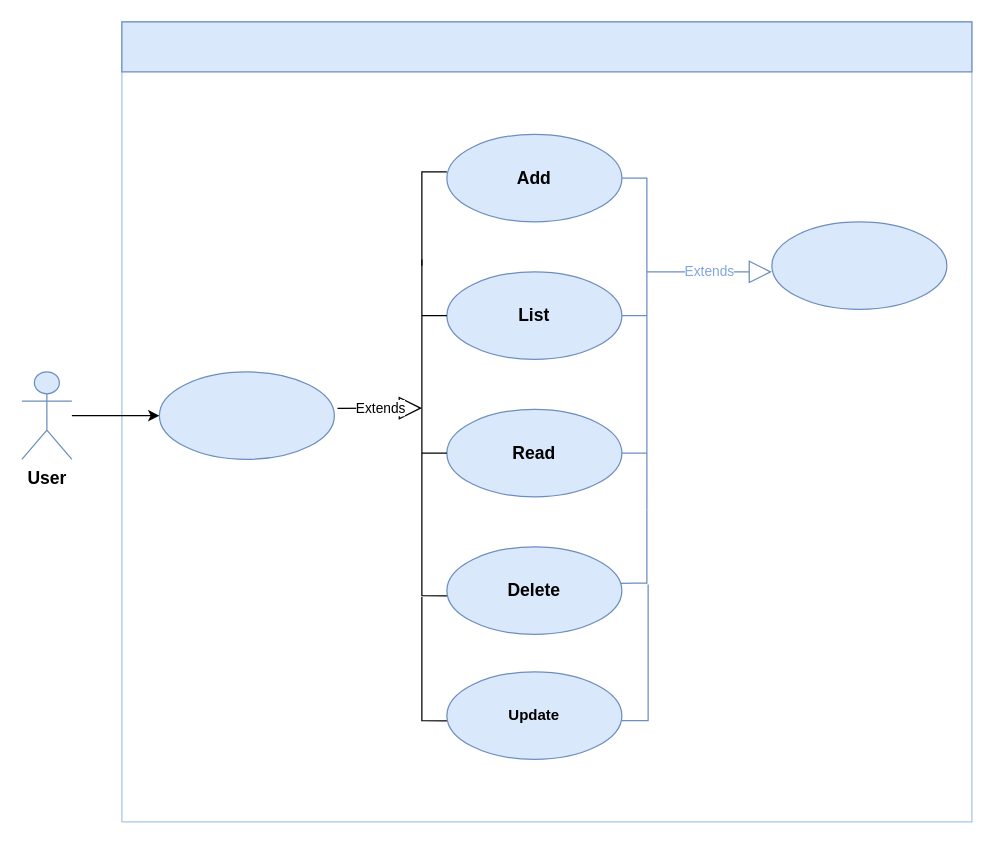
The diagram is 994 pixels wide and 844 high, and some of its shapes have lost their labels. The centre of each missing label's shape, as x and y in pixels:
"App: cas d'utilisation" goes at (546,46).
"Flux" goes at (859,265).
"Login" goes at (246,415).
